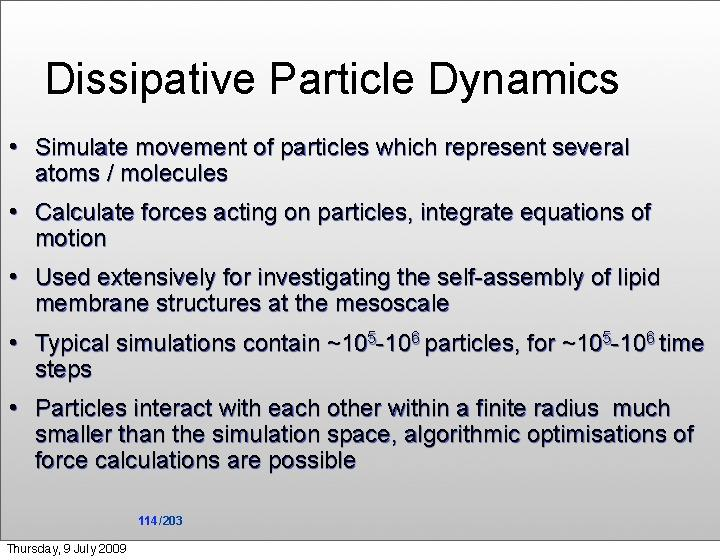paragraph: (3, 128, 720, 483)
title: (42, 46, 633, 115)
